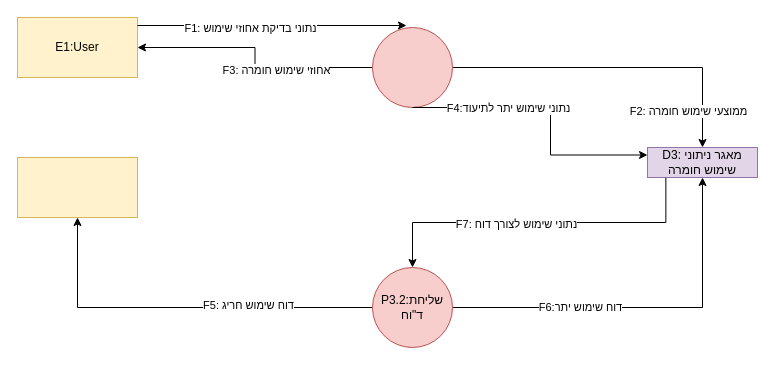
Some shapes in this 775 by 365 pixel diagram are drawn without their labels. The shapes that lost their labels are listed below. From the top down, each one's centre as x and y in pixels, then its label:
At point (412, 67): "P3.1:מאזין שימוש חומרה".
At point (77, 187): "E2: Mailjet שירות".
